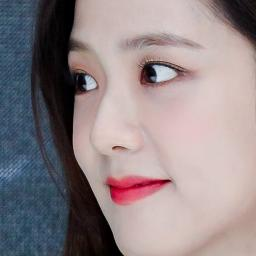face: (78, 0, 256, 256)
